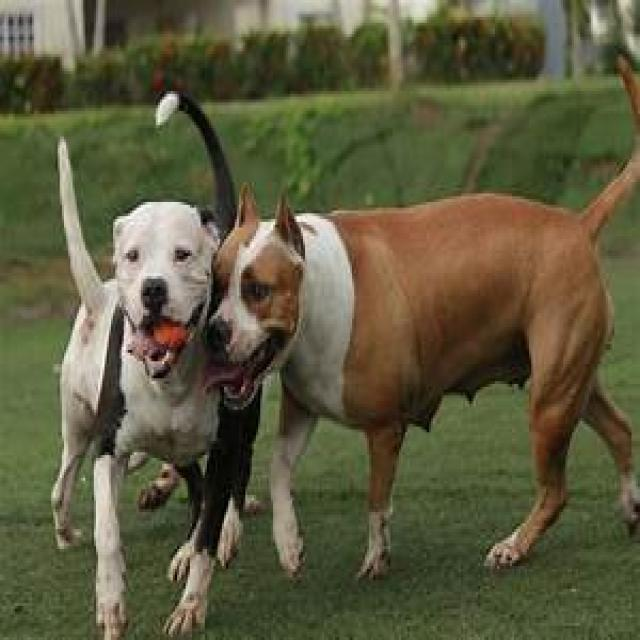dog: (211, 62, 640, 576), (55, 95, 234, 638)
